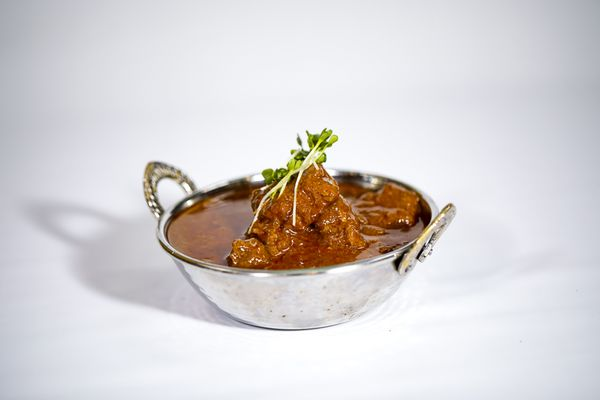sushi: (145, 147, 455, 330)
